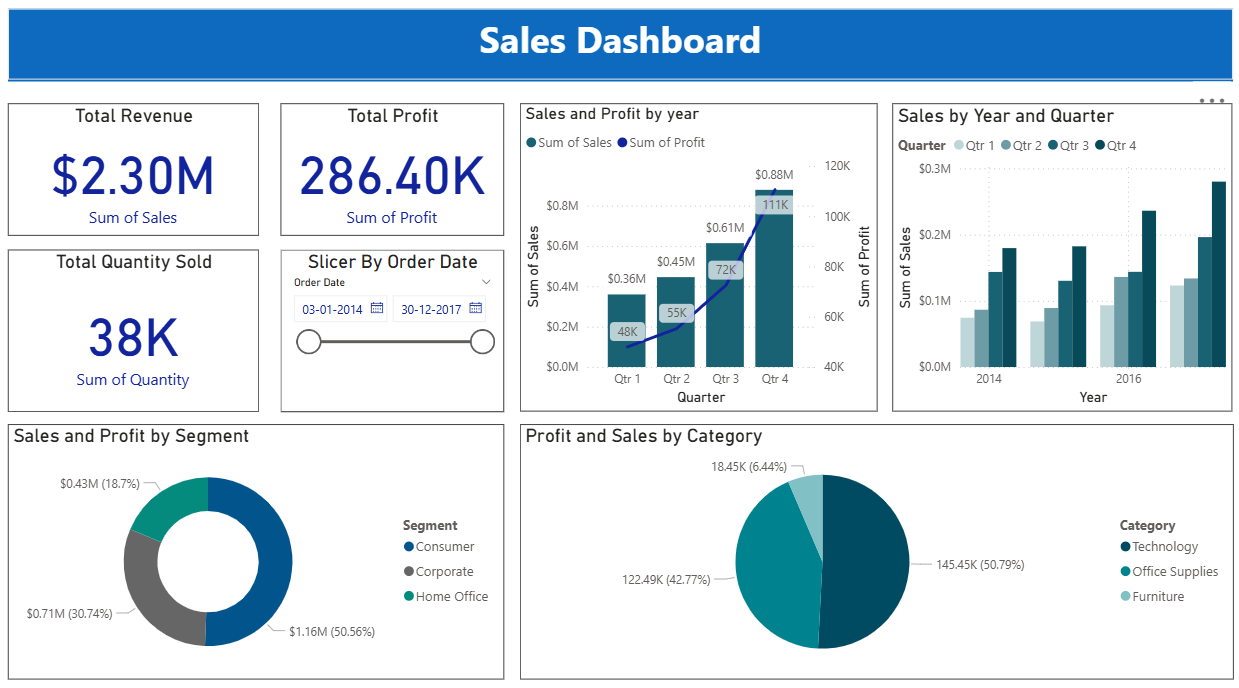

What the dashboard file says about the page in this screenshot:
{"tool":"powerbi","page":{"name":"Overall sales","canvas":[1280,720],"ordinal":0},"visuals":[{"type":"textbox","box":[10,0,280,280],"z":0},{"type":"textbox","box":[10.1,16.2,1253.7,74.8],"z":1000},{"type":"card","title":"Total Revenue","fields":{"Values":["Sum(Orders.Sales)"]},"box":[10.1,113.2,256.8,135.5],"z":2000},{"type":"card","title":"Total Quantity Sold","fields":{"Values":["Sum(Orders.Quantity)"]},"box":[10.1,262.9,256.8,165.8],"z":3000},{"type":"card","title":"Total Profit","fields":{"Values":["Sum(Orders.Profit)"]},"box":[289.2,113.2,228.5,135.5],"z":4000},{"type":"slicer","title":"Slicer By Order Date","fields":{"Values":["Orders.Order Date"]},"box":[289.2,262.9,228.5,165.8],"z":5000},{"type":"lineStackedColumnComboChart","title":"Sales and Profit by year","fields":{"Category":["Orders.Order Date.Variation.Date Hierarchy.Year","Orders.Order Date.Variation.Date Hierarchy.Quarter","Orders.Order Date.Variation.Date Hierarchy.Month","Orders.Order Date.Variation.Date Hierarchy.Day"],"Y":["Sum(Orders.Sales)"],"Y2":["Sum(Orders.Profit)"]},"box":[533.8,113.2,366,315.5],"z":6000},{"type":"clusteredColumnChart","title":"Sales by Year and Quarter","fields":{"Category":["Orders.Year"],"Series":["Orders.Quarter"],"Y":["Sum(Orders.Sales)"]},"box":[916,113.2,347.8,315.5],"z":7000},{"type":"donutChart","title":" Sales and Profit by Segment","fields":{"Category":["Orders.Segment"],"Y":["Sum(Orders.Sales)"]},"box":[10.1,442.8,507.6,260.9],"z":8000},{"type":"pieChart","title":"Profit and Sales by Category","fields":{"Category":["Orders.Category"],"Y":["Sum(Orders.Profit)"]},"box":[533.8,442.8,730,260.9],"z":9000}]}

Visuals, with their boxes in screenshot pixels (x1, y1, x2, y2), scaled from the page's 1280x720 canvas onto the 1239x688 screenshot:
textbox: {"left": 10, "top": 0, "right": 281, "bottom": 268}
textbox: {"left": 10, "top": 15, "right": 1223, "bottom": 87}
"Total Revenue" card: {"left": 10, "top": 108, "right": 258, "bottom": 238}
"Total Quantity Sold" card: {"left": 10, "top": 251, "right": 258, "bottom": 410}
"Total Profit" card: {"left": 280, "top": 108, "right": 501, "bottom": 238}
"Slicer By Order Date" slicer: {"left": 280, "top": 251, "right": 501, "bottom": 410}
"Sales and Profit by year" lineStackedColumnComboChart: {"left": 517, "top": 108, "right": 871, "bottom": 410}
"Sales by Year and Quarter" clusteredColumnChart: {"left": 887, "top": 108, "right": 1223, "bottom": 410}
" Sales and Profit by Segment" donutChart: {"left": 10, "top": 423, "right": 501, "bottom": 672}
"Profit and Sales by Category" pieChart: {"left": 517, "top": 423, "right": 1223, "bottom": 672}
